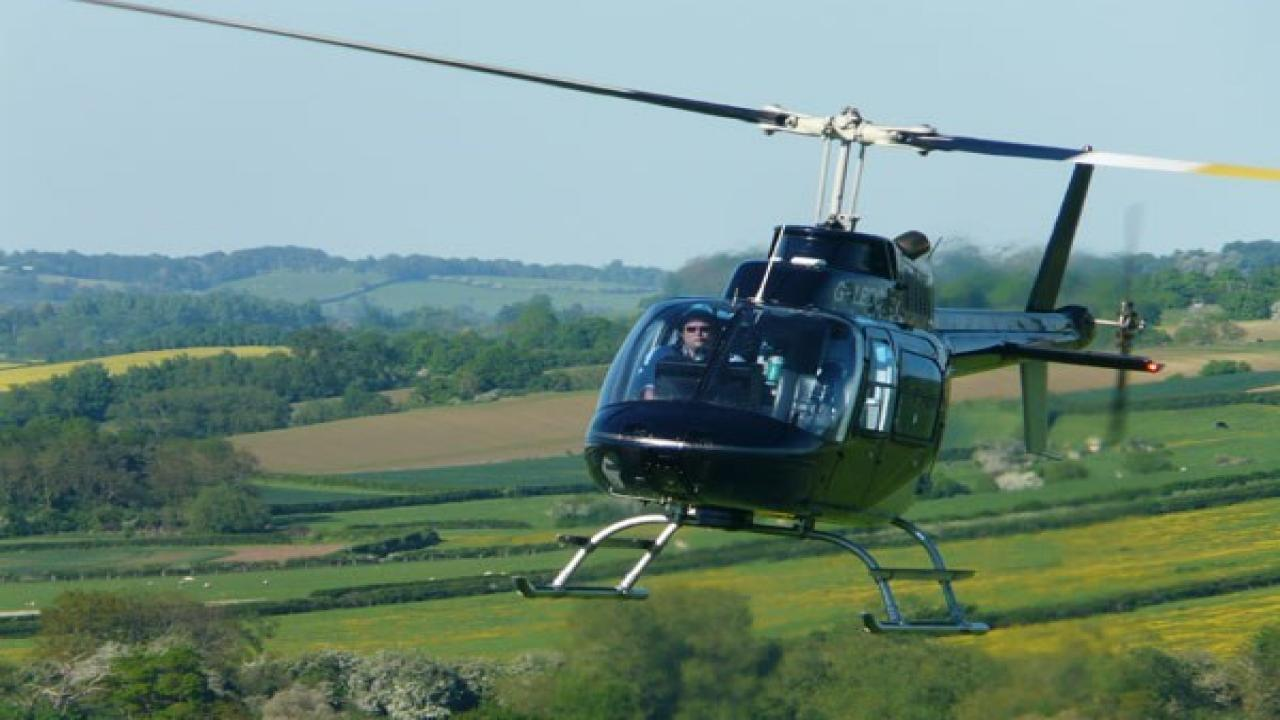Helicopter: (62, 0, 1280, 650)
